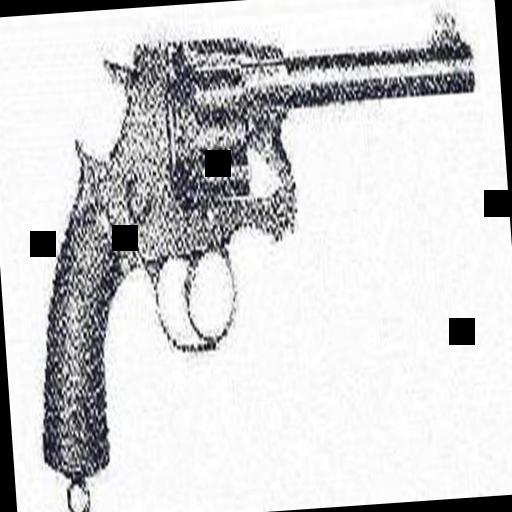Handgun: (7, 0, 496, 475)
